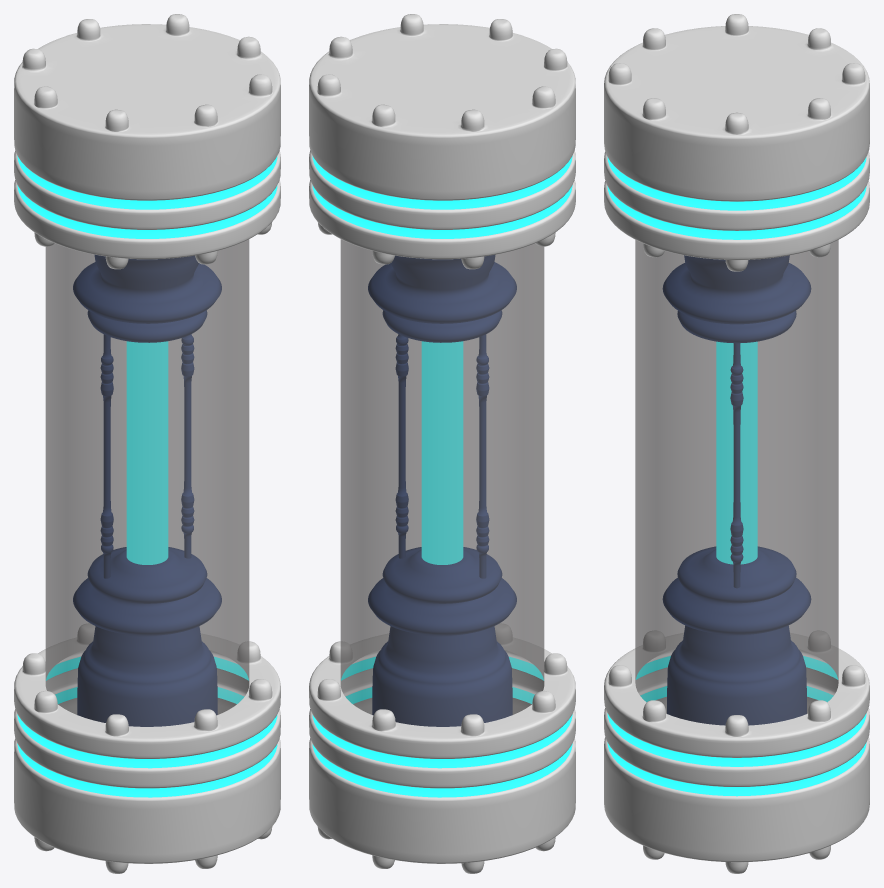
The picture shows the model from 3 angles, left to right: view 1: azimuth 30°, elevation 25°; view 2: azimuth 150°, elevation 25°; view 3: azimuth 270°, elevation 25°; orthographic projection.
Parts seen in each view (by area): view 1: Gen LP; view 2: Gen LP; view 3: Gen LP.
Part boxes in pixels (bbox=[...]): Gen LP: bbox=[14, 14, 280, 873]; Gen LP: bbox=[309, 14, 575, 873]; Gen LP: bbox=[604, 14, 869, 873].
Size of the model in its own units: 199 by 625 by 199.
